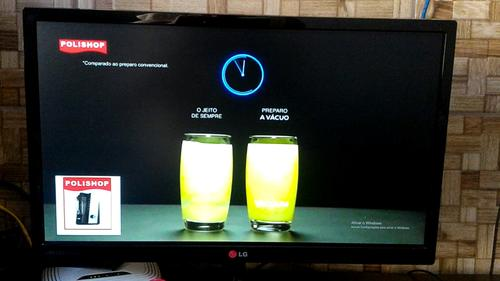Polishop #1: (54, 176, 121, 235)
